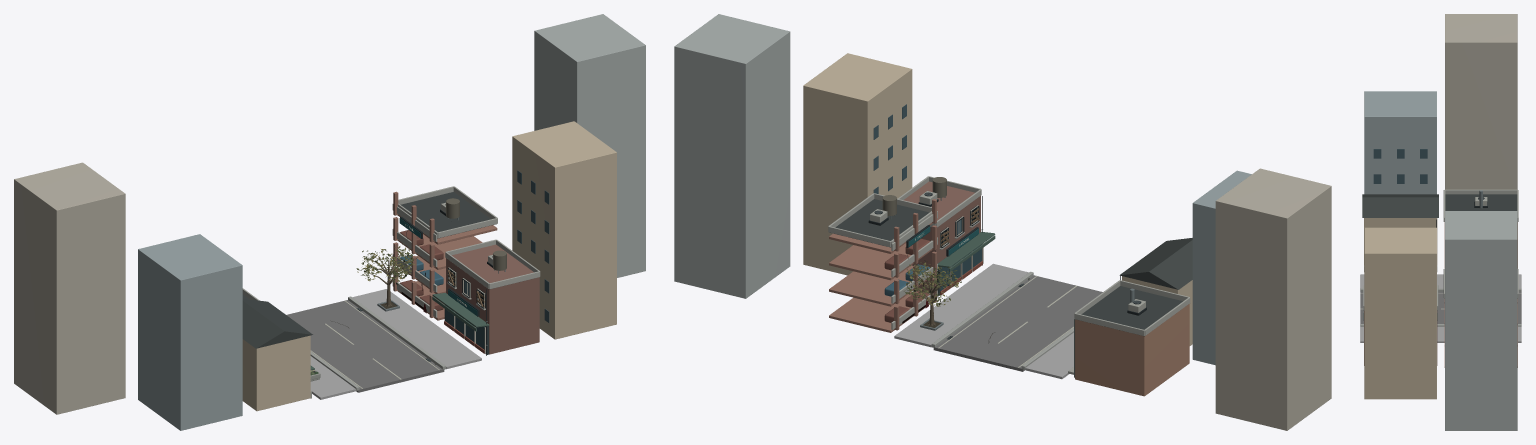
Rendered from city_hd_13.glb.
3 views of the same model, side by side, from view 1: azimuth 30°, elevation 25°; view 2: azimuth 150°, elevation 25°; view 3: azimuth 270°, elevation 25° (orthographic). The views are drawn at different scales.
Parts seen in each view (by area): view 1: Background city building.001, CITY_realwall_c2b59e, Background city building, Background city building.003, CITY_PBR_asphalt, Mixed use shop volume, CITY_PBR_pavement, CITY_roof, CITY_trim, CITY_realwall_9a7567, Tree individual folded leaves, CITY_curb (+3 smaller); view 2: Background city building.003, Background city building.001, CITY_realwall_c2b59e, CITY_PBR_asphalt, Industrial warehouse volume, CITY_roof, CITY_realwall_9a7567, CITY_trim, CITY_PBR_pavement, Background city building, Mixed use shop volume, Tree individual folded leaves (+3 smaller); view 3: Background city building.003, CITY_realwall_c2b59e, Background city building.001, Background city building, CITY_roof, CITY_trim, CITY_PBR_pavement, CITY_realwall_a9b0ae, CITY_PBR_asphalt.
Part boxes in pixels (<box>): Background city building.001: <box>14,162,125,414</box>; CITY_realwall_c2b59e: <box>242,121,616,411</box>; Background city building: <box>138,234,242,430</box>; Background city building.003: <box>534,14,645,277</box>; CITY_PBR_asphalt: <box>286,300,444,392</box>; Mixed use shop volume: <box>446,244,539,354</box>; CITY_PBR_pavement: <box>310,289,481,399</box>; CITY_roof: <box>242,192,496,348</box>; CITY_trim: <box>242,186,540,398</box>; CITY_realwall_9a7567: <box>393,191,497,320</box>; Tree individual folded leaves: <box>356,243,418,285</box>; CITY_curb: <box>310,296,445,390</box>; Background city building.003: <box>674,14,790,298</box>; Background city building.001: <box>1215,168,1331,430</box>; CITY_realwall_c2b59e: <box>803,53,1192,345</box>; CITY_PBR_asphalt: <box>933,275,1102,371</box>; Industrial warehouse volume: <box>1075,304,1189,396</box>; CITY_roof: <box>830,199,1192,336</box>; CITY_realwall_9a7567: <box>829,199,936,332</box>; CITY_trim: <box>828,176,1190,374</box>; CITY_PBR_pavement: <box>894,263,1073,379</box>; Background city building: <box>1192,170,1251,365</box>; Mixed use shop volume: <box>903,181,980,292</box>; Tree individual folded leaves: <box>904,260,961,306</box>; Background city building.003: <box>1445,211,1517,430</box>; CITY_realwall_c2b59e: <box>1364,218,1437,399</box>; Background city building.001: <box>1445,14,1517,189</box>; Background city building: <box>1364,91,1436,194</box>; CITY_roof: <box>1362,194,1517,217</box>; CITY_trim: <box>1363,189,1518,310</box>; CITY_PBR_pavement: <box>1360,274,1521,342</box>; CITY_realwall_a9b0ae: <box>1373,149,1427,183</box>; CITY_PBR_asphalt: <box>1360,292,1521,323</box>.
Size of the model in its own units: 57.3 by 21.26 by 16.
